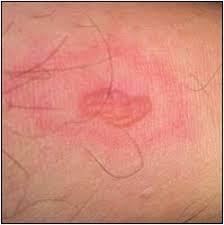Spider: (66, 73, 160, 159)
